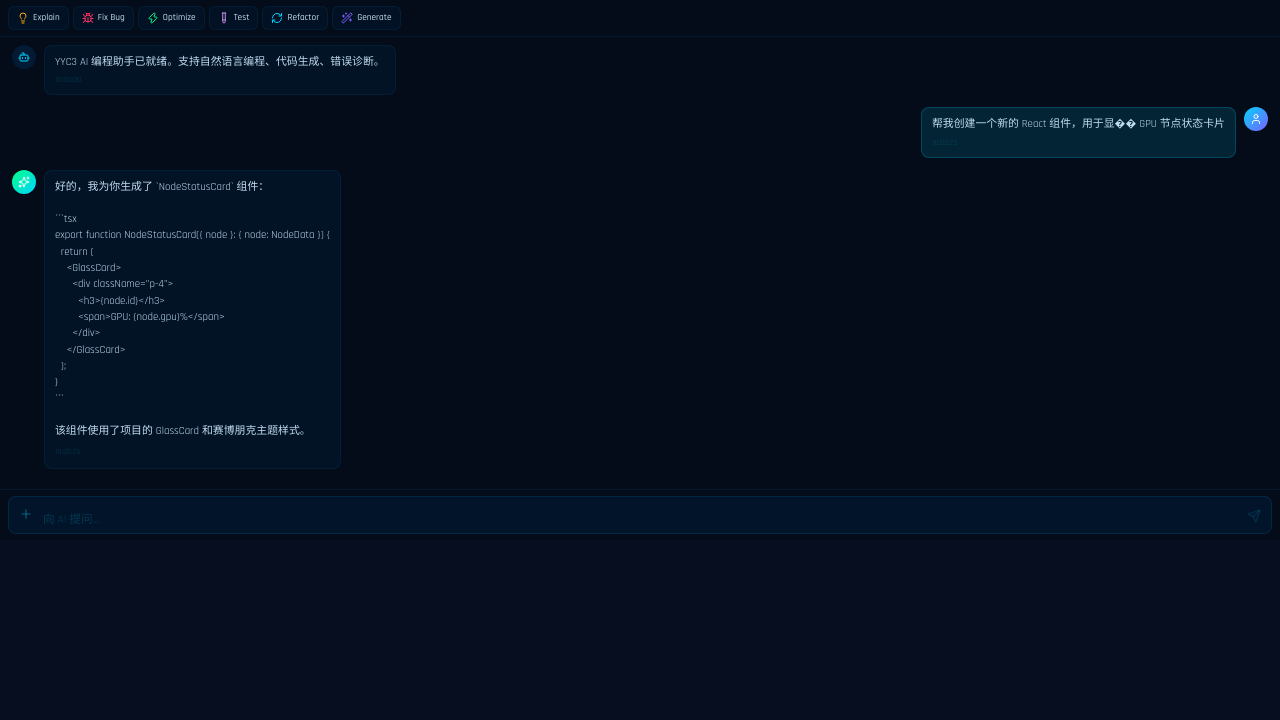
Test: AIChatPanel › 附件菜单: 开合 + 选择项关闭
This screenshot has width=1280, height=720.
expect the text "Upload Image" is not shown: met
Click the 7th button: (26, 514) [13,500,39,526]
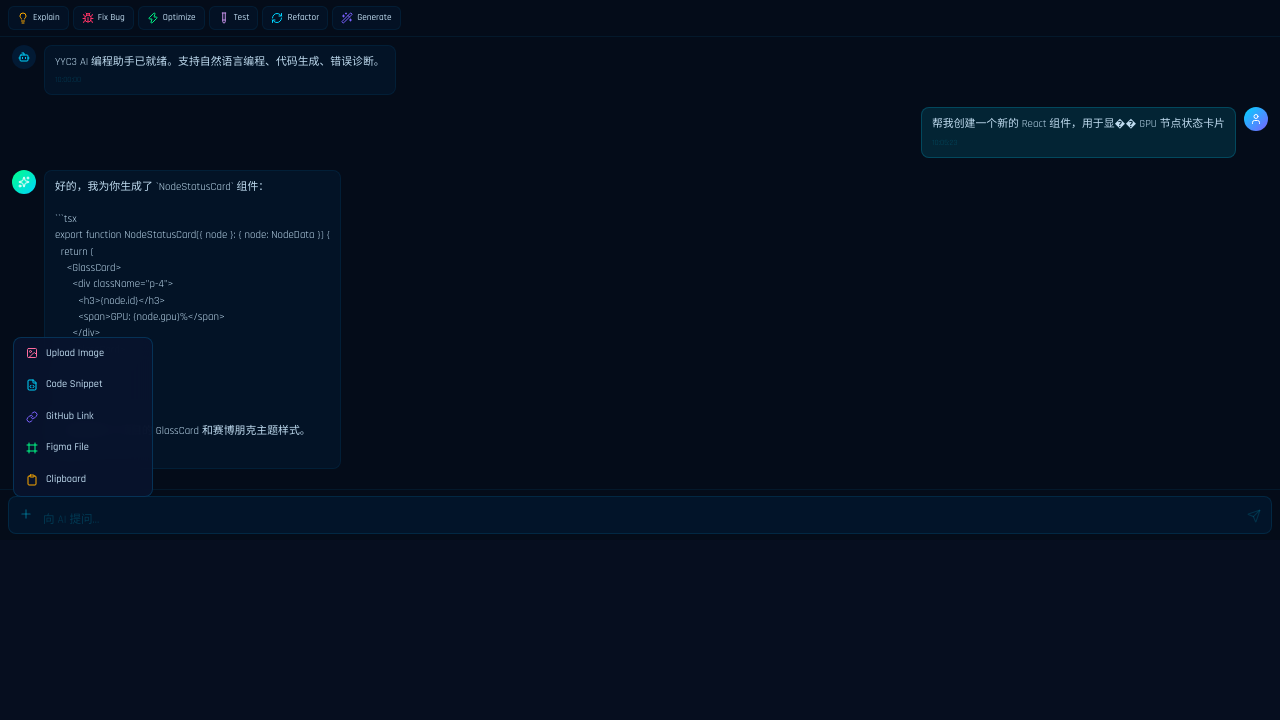
expect the text "Upload Image" is shown: met, box [46,346,104,361]
expect the text "Figma File" is shown: met, box [46,440,89,456]
Click the button "Code Snippet": (83, 385) [14,369,152,401]
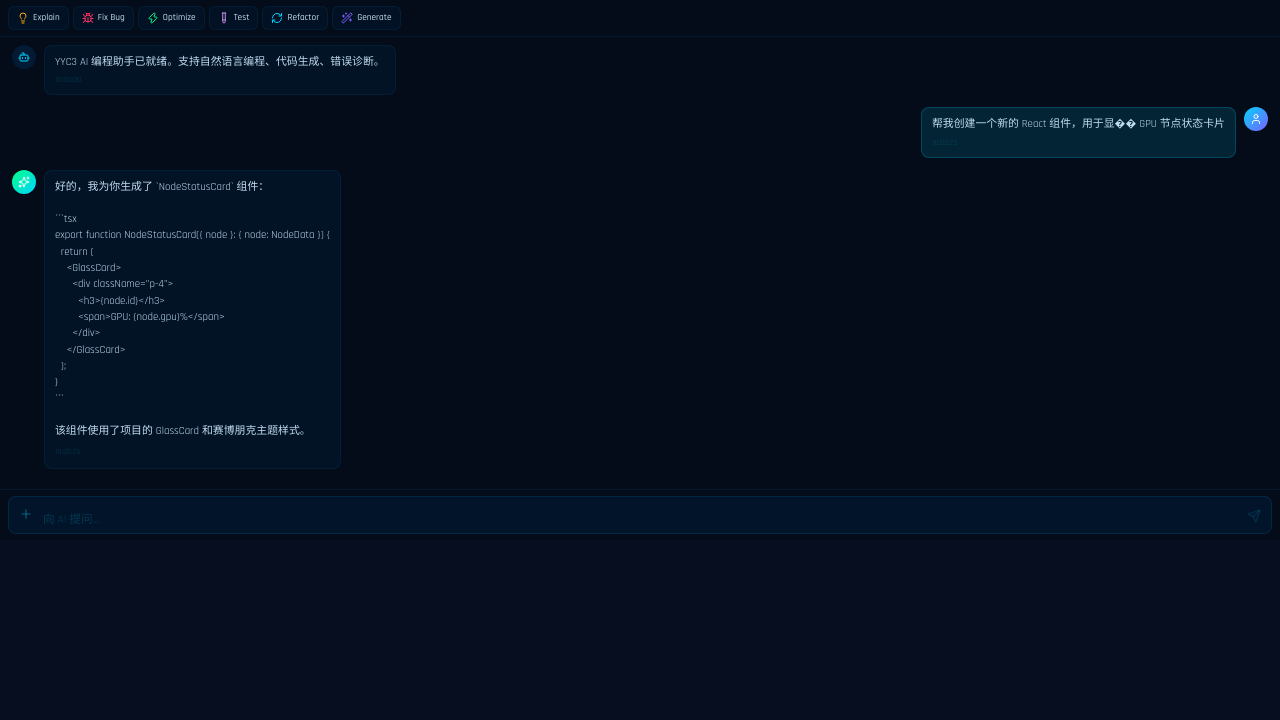
expect the text "Upload Image" is gone: met
